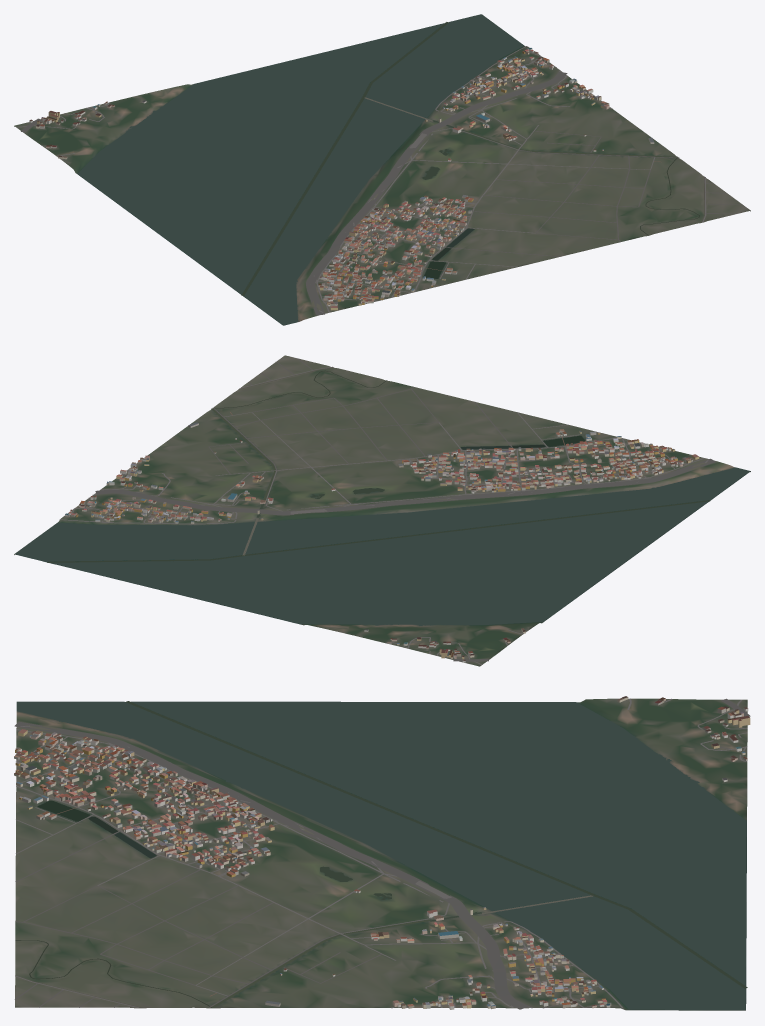
3 views of the same model, one above another, from view 1: azimuth 30°, elevation 25°; view 2: azimuth 150°, elevation 25°; view 3: azimuth 270°, elevation 25° (orthographic). The views are drawn at different scales.
Visible parts, largest first — view 1: water, ground, buildings, roads; view 2: water, ground, buildings, roads; view 3: water, ground, buildings, roads.
Boxes of the visible parts, x1,y1,x2,y2 form: water: (77, 14, 704, 325); ground: (14, 14, 750, 325); buildings: (29, 48, 654, 310); roads: (16, 46, 741, 315); water: (15, 367, 749, 626); ground: (14, 355, 750, 666); buildings: (65, 422, 699, 662); roads: (59, 358, 715, 664); water: (15, 701, 747, 1009); ground: (15, 698, 747, 1010); buildings: (14, 696, 750, 1009); roads: (14, 698, 750, 1009).
Size of the model in its own units: 1411 by 23.57 by 1413.
